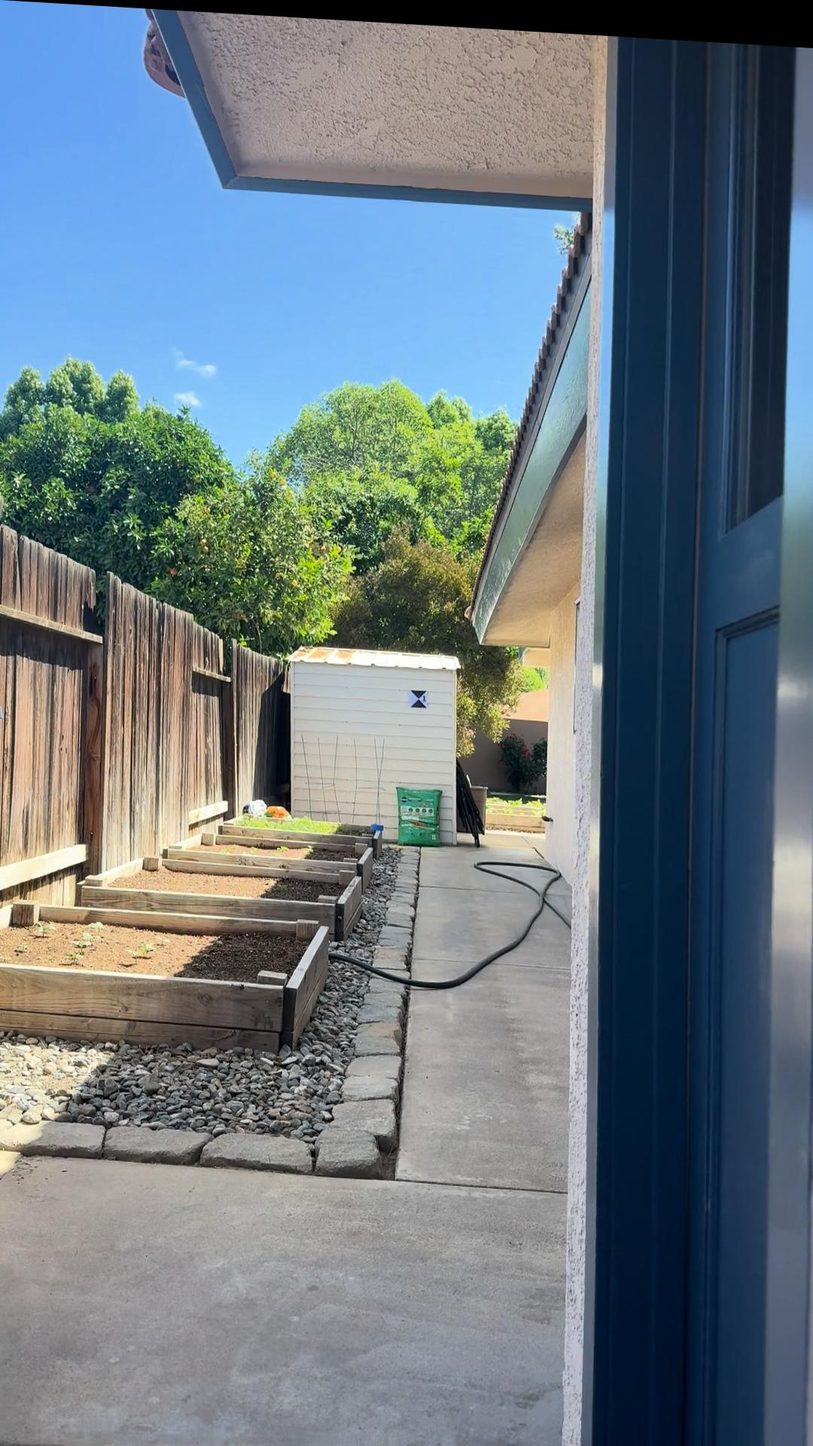target1: (406, 686, 431, 712)
